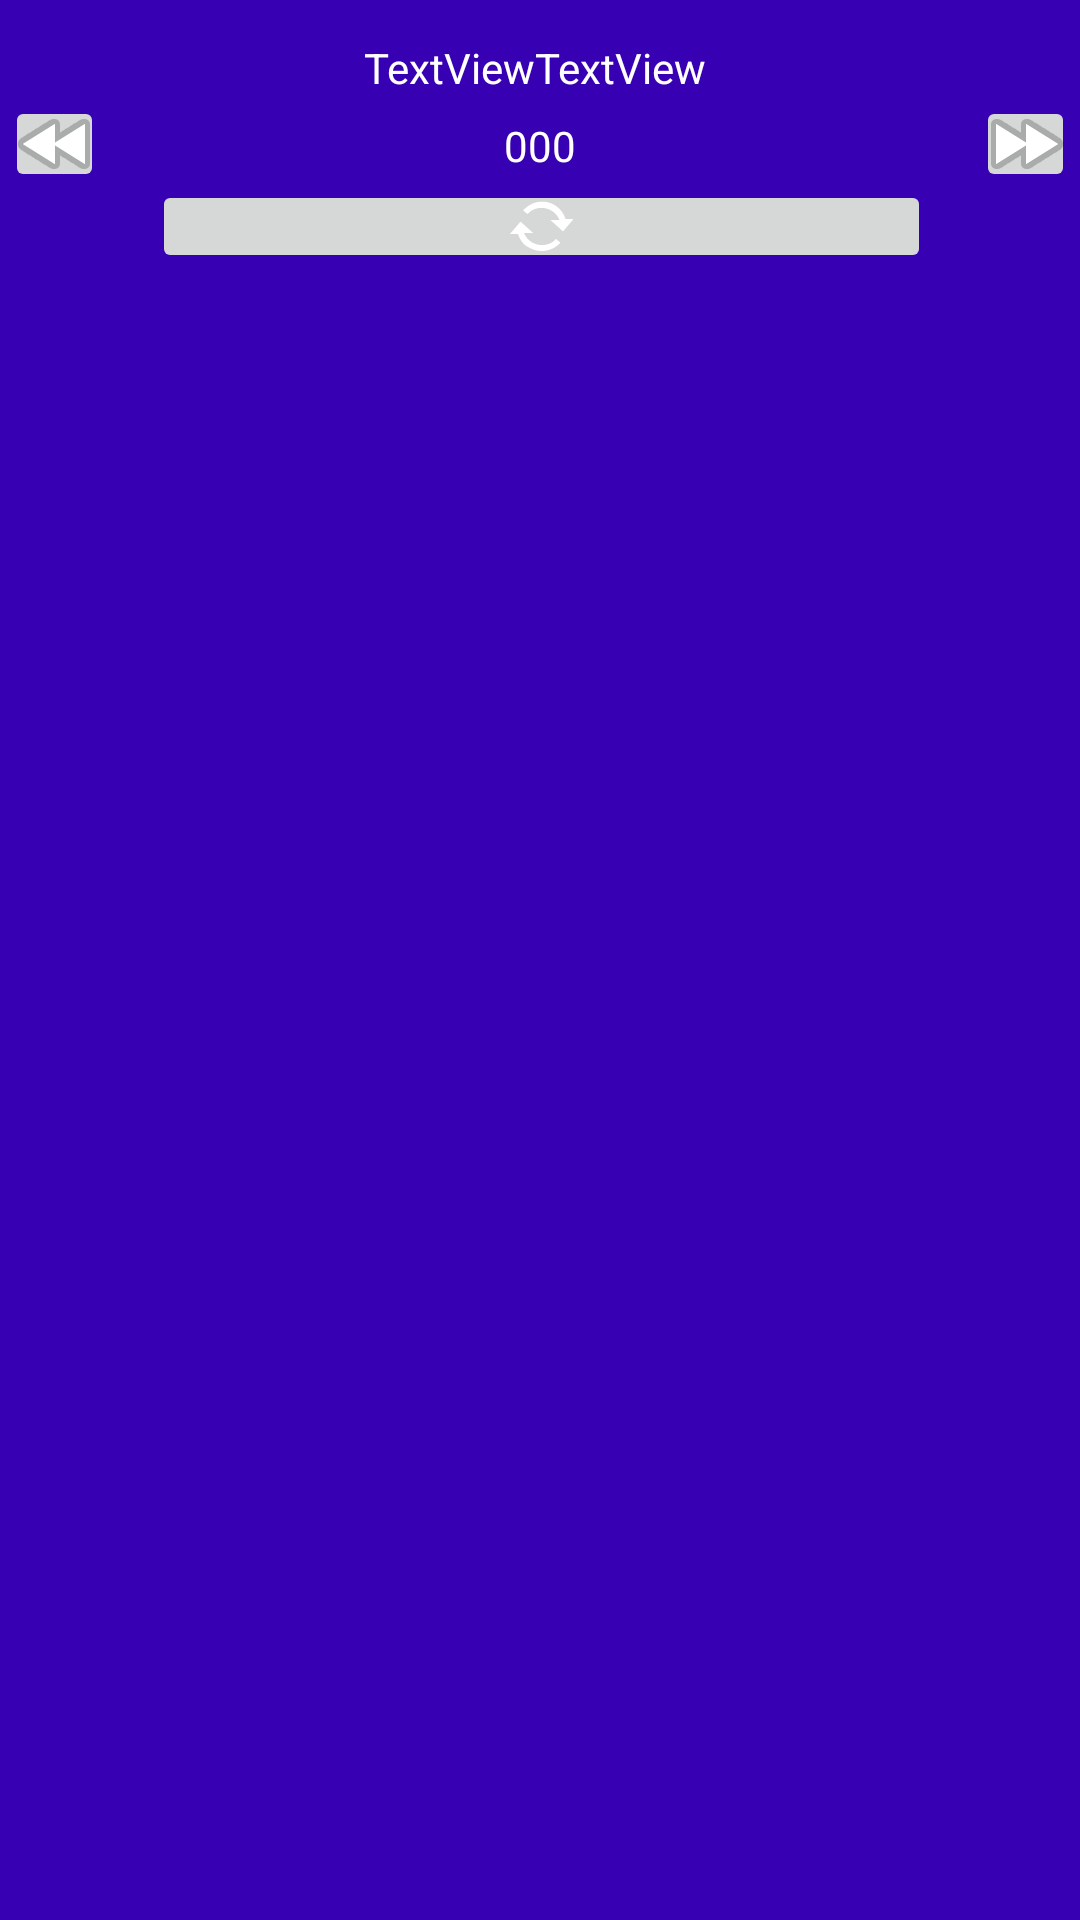

Screen size 1080w x 1920h. Icon name, then its center in pixels as (x=x, y=y):
rew: (x=54, y=144)
